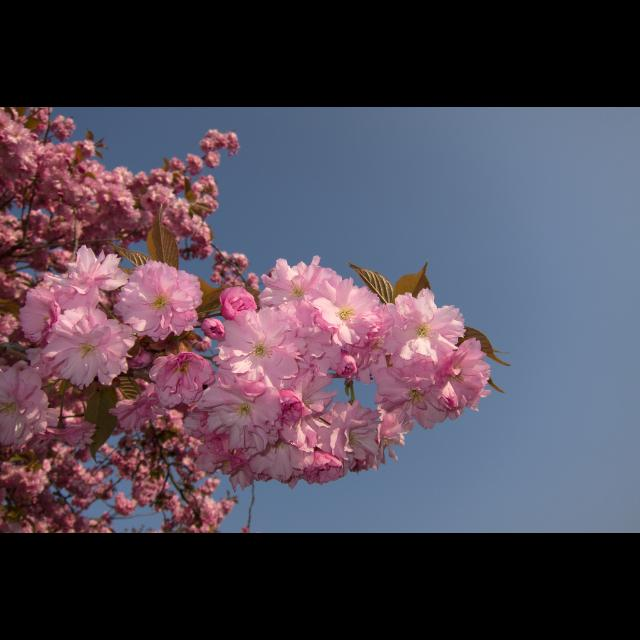Flower: (1, 107, 490, 533), (116, 256, 202, 336)
